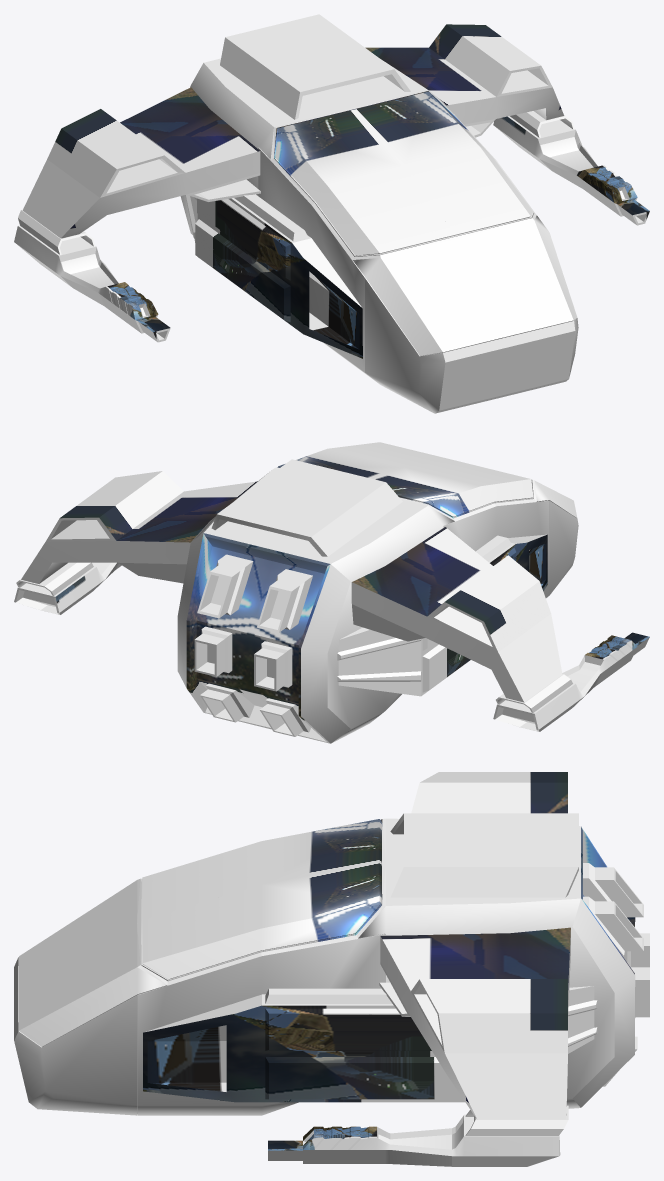
The model's file is parcali_drone_x.FBX.
3 views of the same model, one above another, from view 1: azimuth 30°, elevation 25°; view 2: azimuth 150°, elevation 25°; view 3: azimuth 270°, elevation 25° (orthographic). The views are drawn at different scales.
Visible parts, largest first — view 1: Object016, Object011, Object009, Object018, Object007, Object019, Object017, Object006, Object029, Object010, Object022, Object004 (+8 smaller); view 2: Object029, Object011, Object007, Box017, Object006, Object016, Object009, Object010, Object004, Object022, Object023, Object024 (+11 smaller); view 3: Object008, Object016, Object006, Box017, Object007, Object021, Object020, Object004, Object017, Object010, Object002, Object018 (+7 smaller).
Boxes of the visible parts, left/top/right/bottom form: Object016: left=275, top=91, right=532, bottom=255; Object011: left=22, top=87, right=260, bottom=238; Object009: left=185, top=194, right=362, bottom=358; Object018: left=353, top=236, right=508, bottom=355; Object007: left=220, top=14, right=410, bottom=119; Object019: left=365, top=278, right=510, bottom=413; Object017: left=456, top=213, right=577, bottom=336; Object006: left=365, top=47, right=563, bottom=137; Object029: left=180, top=58, right=352, bottom=234; Object010: left=47, top=109, right=185, bottom=197; Object022: left=258, top=147, right=455, bottom=382; Object004: left=429, top=24, right=552, bottom=96; Object029: left=250, top=497, right=454, bottom=743; Object011: left=351, top=527, right=562, bottom=702; Object007: left=211, top=459, right=402, bottom=556; Box017: left=177, top=467, right=284, bottom=728; Object006: left=21, top=481, right=257, bottom=583; Object016: left=278, top=442, right=533, bottom=517; Object009: left=337, top=534, right=547, bottom=696; Object010: left=427, top=555, right=550, bottom=652; Object004: left=46, top=471, right=183, bottom=541; Object022: left=443, top=480, right=549, bottom=597; Object023: left=257, top=569, right=312, bottom=632; Object024: left=197, top=554, right=253, bottom=618; Object008: left=143, top=986, right=597, bottom=1102; Object016: left=142, top=819, right=379, bottom=979; Object006: left=379, top=927, right=570, bottom=1119; Box017: left=355, top=862, right=635, bottom=1108; Object007: left=390, top=813, right=578, bottom=897; Object021: left=138, top=921, right=385, bottom=1115; Object020: left=14, top=994, right=137, bottom=1115; Object004: left=411, top=979, right=567, bottom=1053; Object017: left=19, top=922, right=167, bottom=1046; Object010: left=411, top=772, right=567, bottom=813; Object002: left=303, top=1126, right=451, bottom=1166; Object018: left=19, top=878, right=141, bottom=992.
Bounding box in the file's own units: 288 × 105 × 259.
